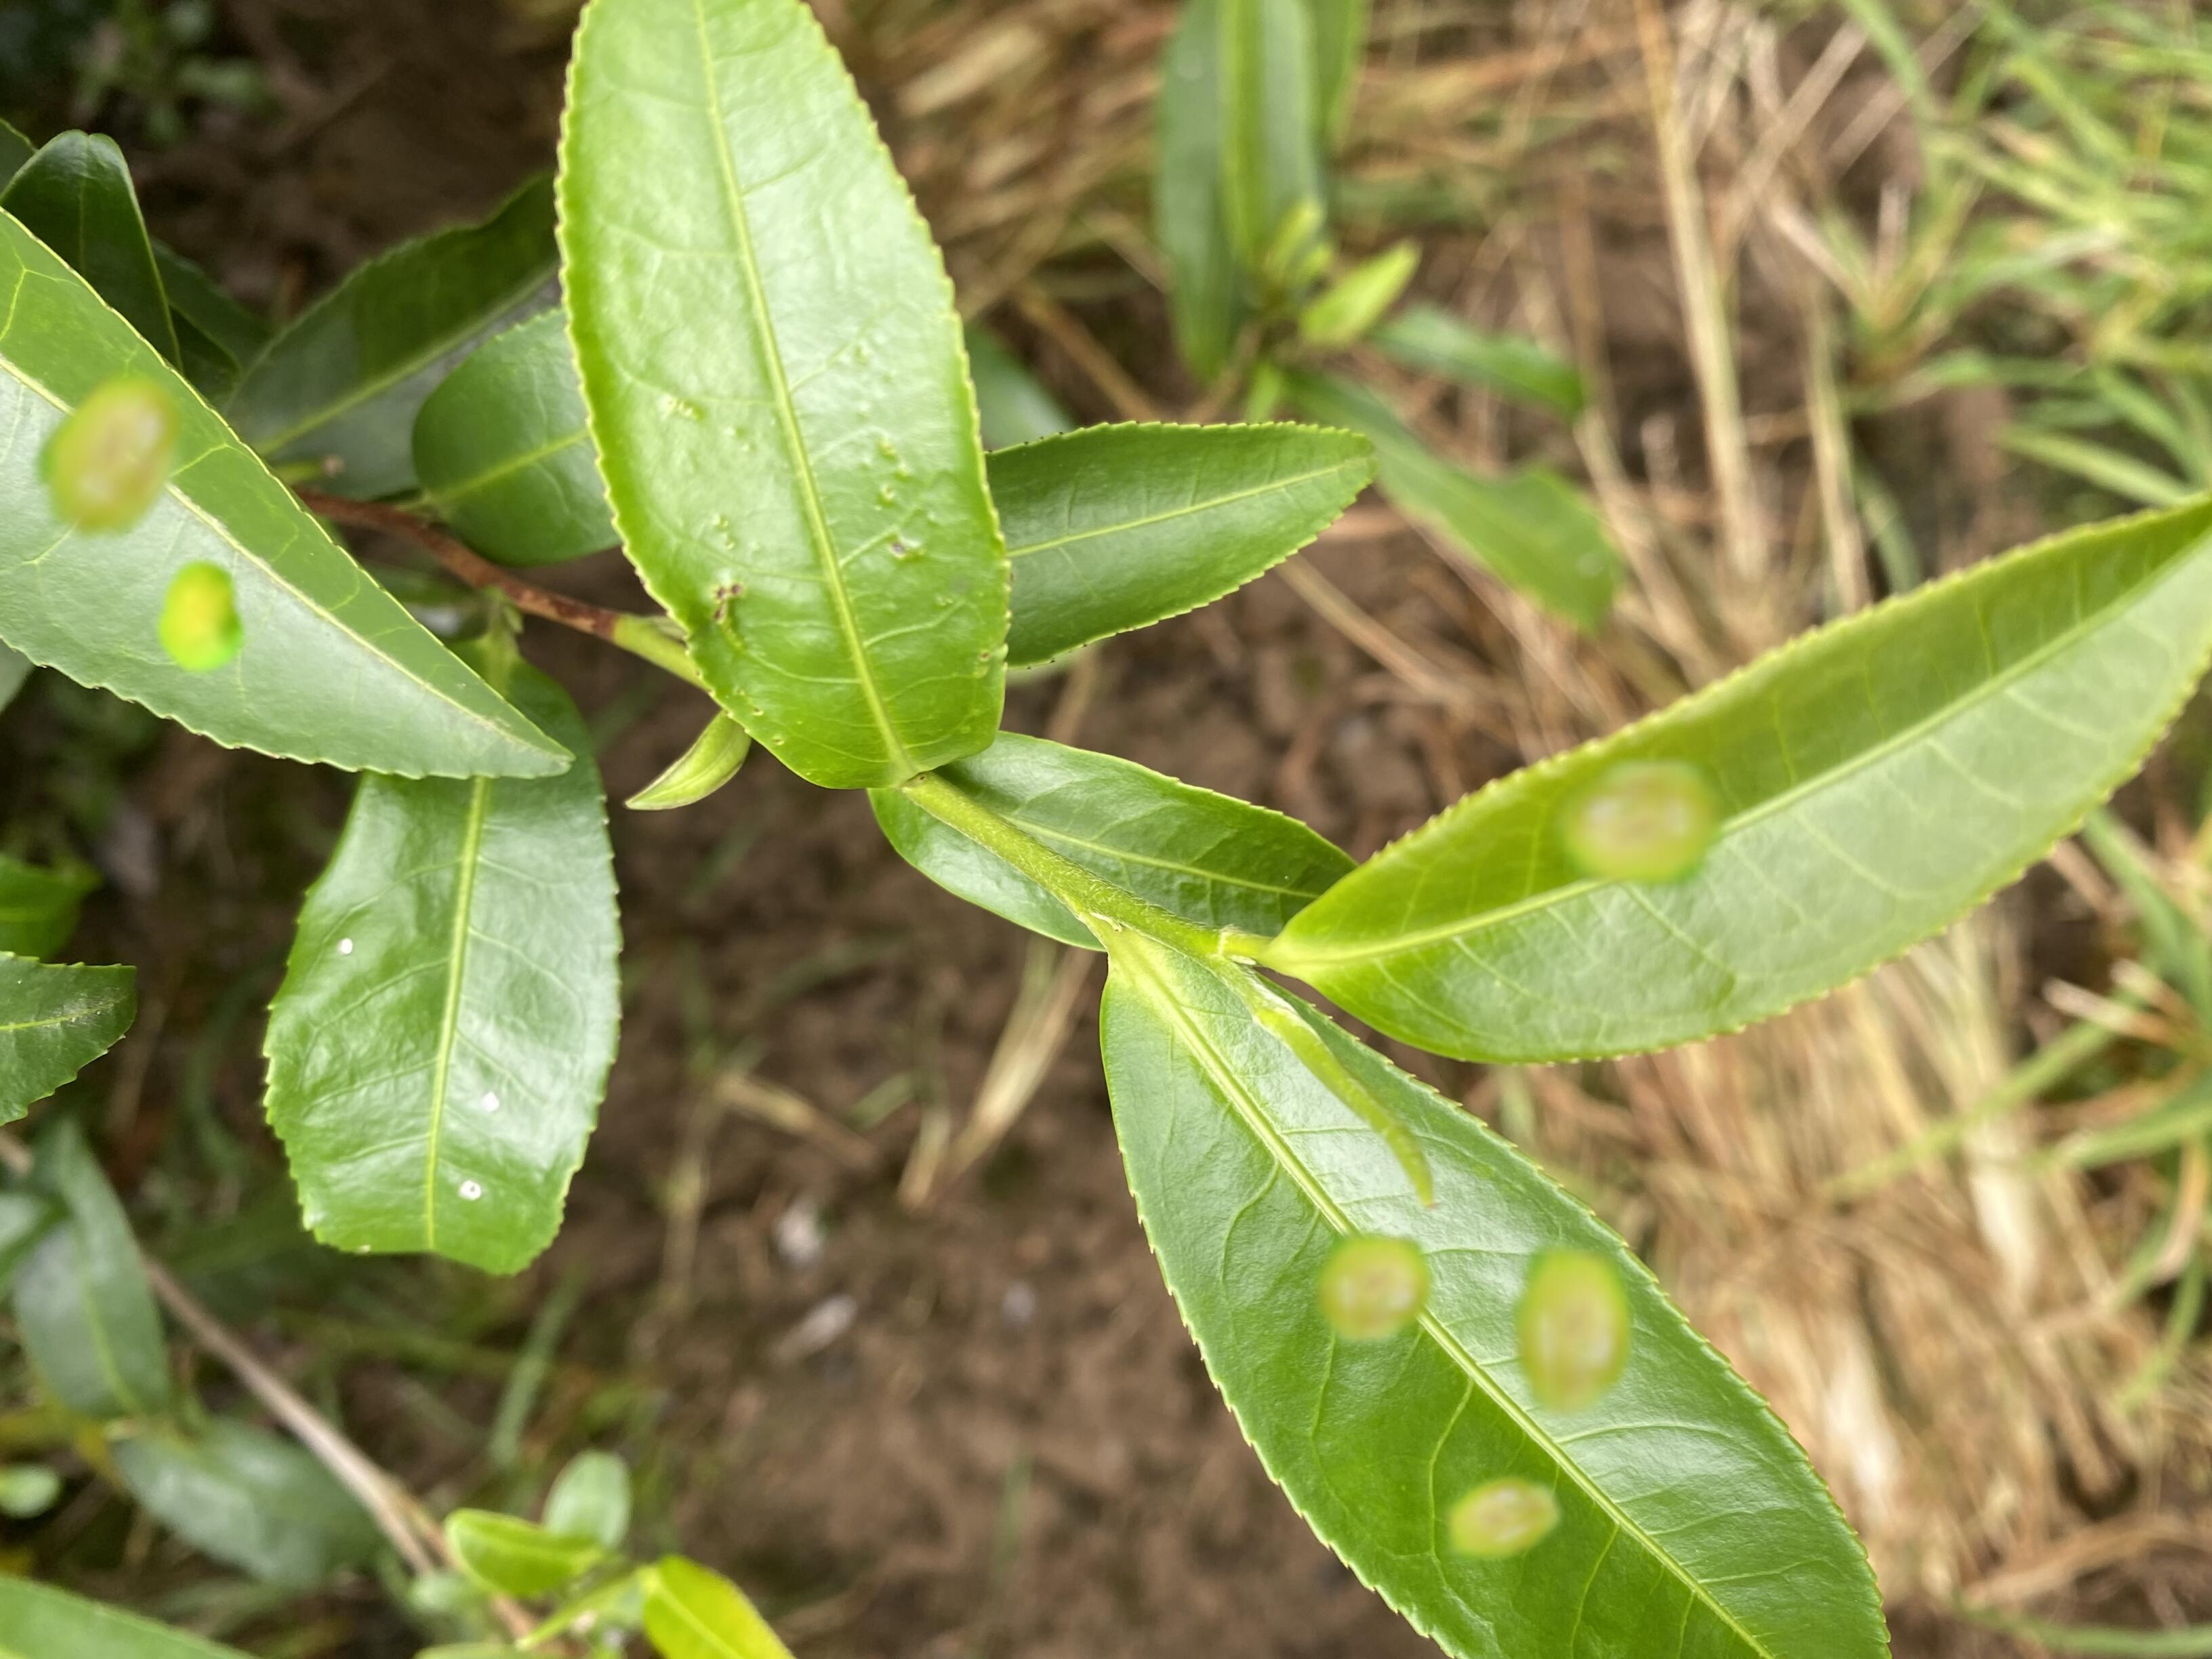chabing_high: (3, 214, 575, 784)
chabing_low: (1103, 958, 1897, 1650), (1285, 497, 2210, 1066)
healthy: (986, 423, 1381, 664), (887, 741, 1345, 945)
